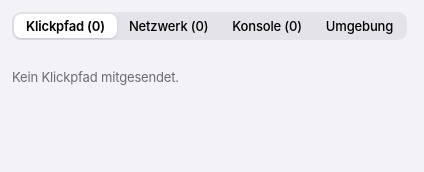
KontextTabs › crasht auch bei falsch typisierten Kategorien nicht
Click the button "Netzwerk (0)": [169, 26] box 117,14 -> 220,38
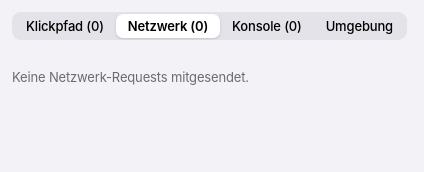
Expected: the text "Keine Netzwerk-Requests mitgesendet." is shown, 12,69 -> 249,85
